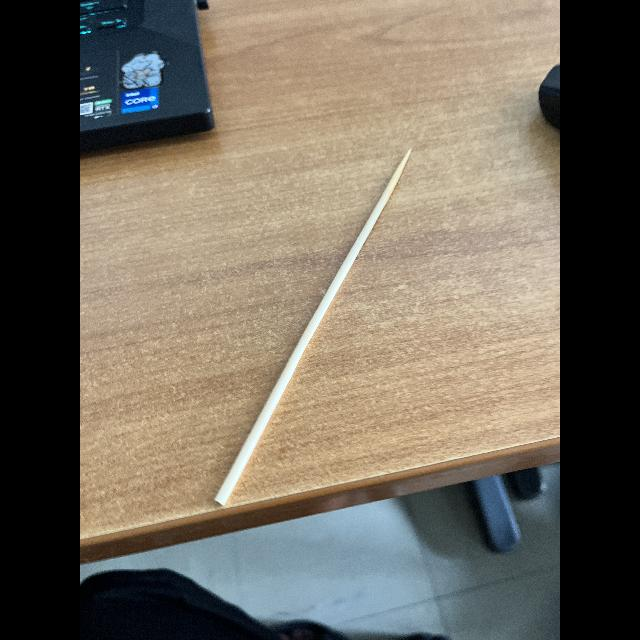stick: (189, 132, 439, 542)
